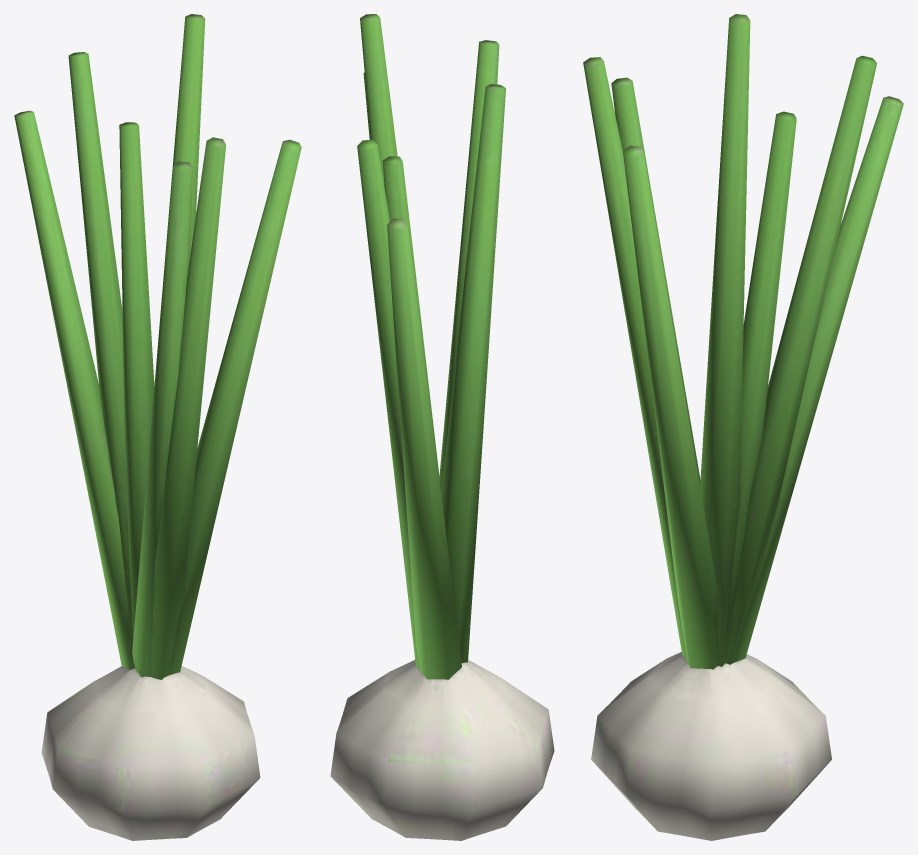
The model's file is crop_garlic.glb.
The picture shows the model from 3 angles, left to right: view 1: azimuth 30°, elevation 25°; view 2: azimuth 150°, elevation 25°; view 3: azimuth 270°, elevation 25°; orthographic projection. The views are drawn at different scales.
Parts seen in each view (by area): view 1: crop_garlic, fruit; view 2: crop_garlic, fruit; view 3: crop_garlic, fruit.
Part boxes in pixels (left/top/right/bottom): crop_garlic: left=14, top=14, right=301, bottom=679; fruit: left=41, top=666, right=260, bottom=840; crop_garlic: left=357, top=14, right=505, bottom=679; fruit: left=330, top=660, right=554, bottom=840; crop_garlic: left=583, top=14, right=903, bottom=669; fruit: left=591, top=652, right=831, bottom=840.
Bounding box in the file's own units: 0.0964 × 0.3394 × 0.1195.
Materials: 1 (1 with a texture image).
